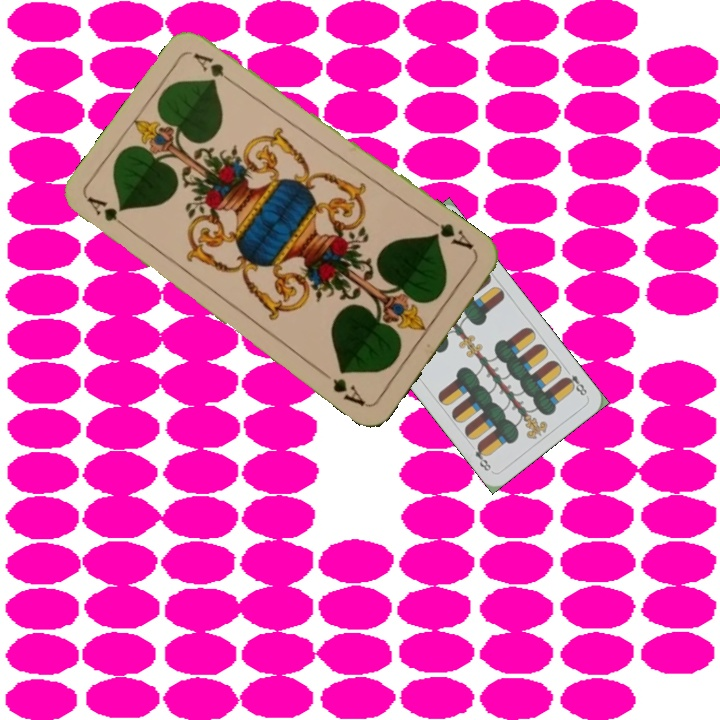E8: (560, 364, 590, 398)
GA: (83, 193, 135, 235), (427, 215, 478, 256)
